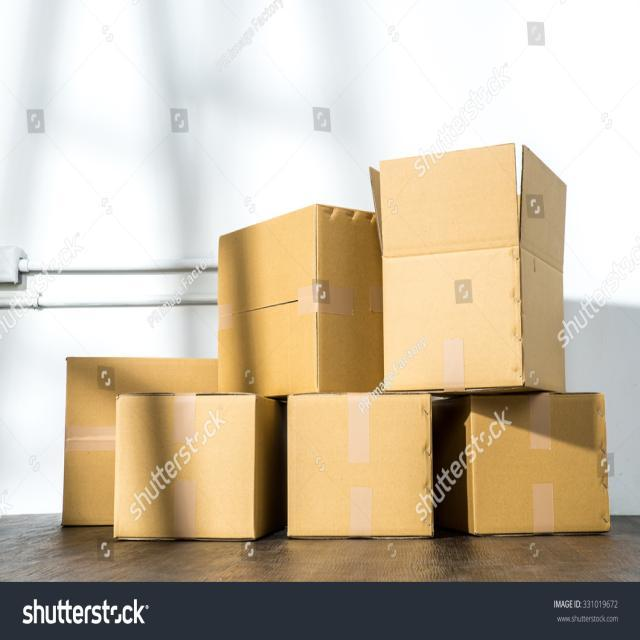BoxFace: (286, 395, 436, 540), (114, 394, 255, 542), (470, 392, 610, 536), (382, 250, 522, 389), (218, 205, 318, 394)
